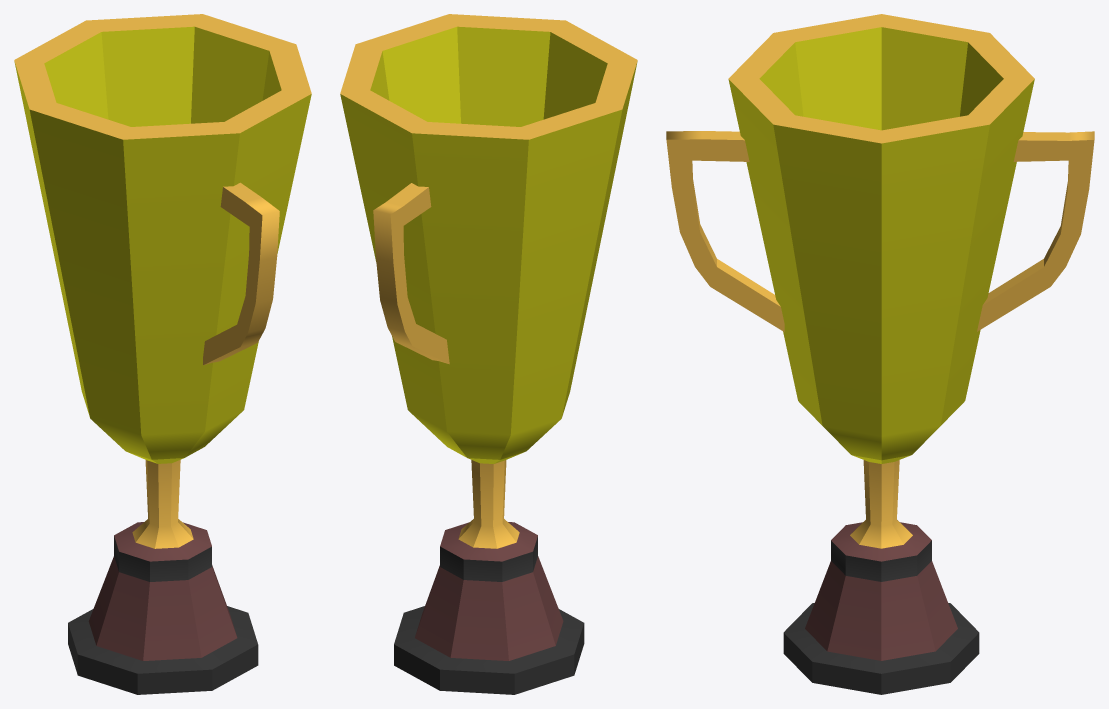
File: Trophy_Award_Gold_Large.fbx
The picture shows the model from 3 angles, left to right: view 1: azimuth 30°, elevation 25°; view 2: azimuth 150°, elevation 25°; view 3: azimuth 270°, elevation 25°; orthographic projection.
Parts seen in each view (by area): view 1: Trophy_Gold1; view 2: Trophy_Gold1; view 3: Trophy_Gold1.
Boxes of the visible parts, left/top/right/bottom form: Trophy_Gold1: left=14, top=14, right=311, bottom=694; Trophy_Gold1: left=340, top=14, right=637, bottom=694; Trophy_Gold1: left=666, top=14, right=1094, bottom=694.
Size of the model in its own units: 22.42 by 46.4 by 31.32.
